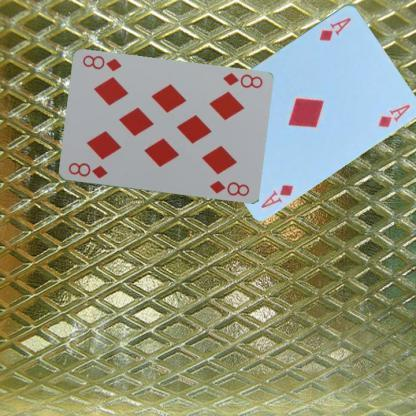8d: (65, 160, 109, 180), (220, 70, 264, 90)
Ad: (258, 182, 295, 210), (316, 15, 352, 42)
